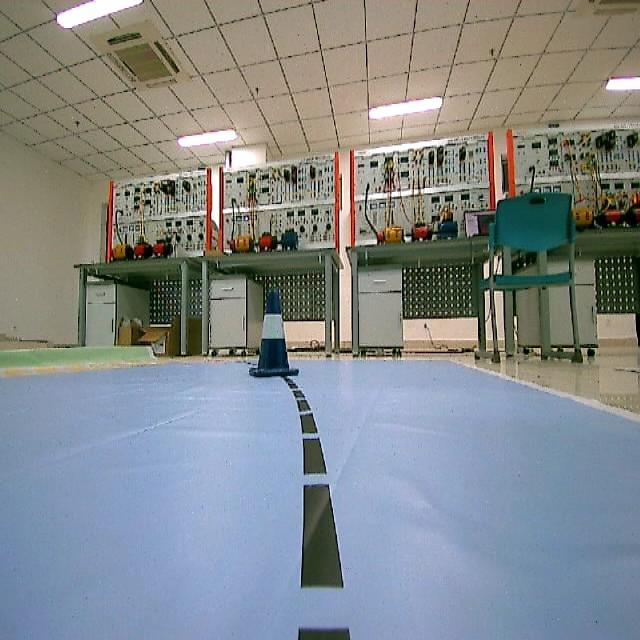obstacle: (240, 286, 304, 382)
